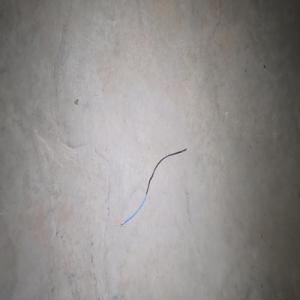Wire: (119, 147, 186, 227)
